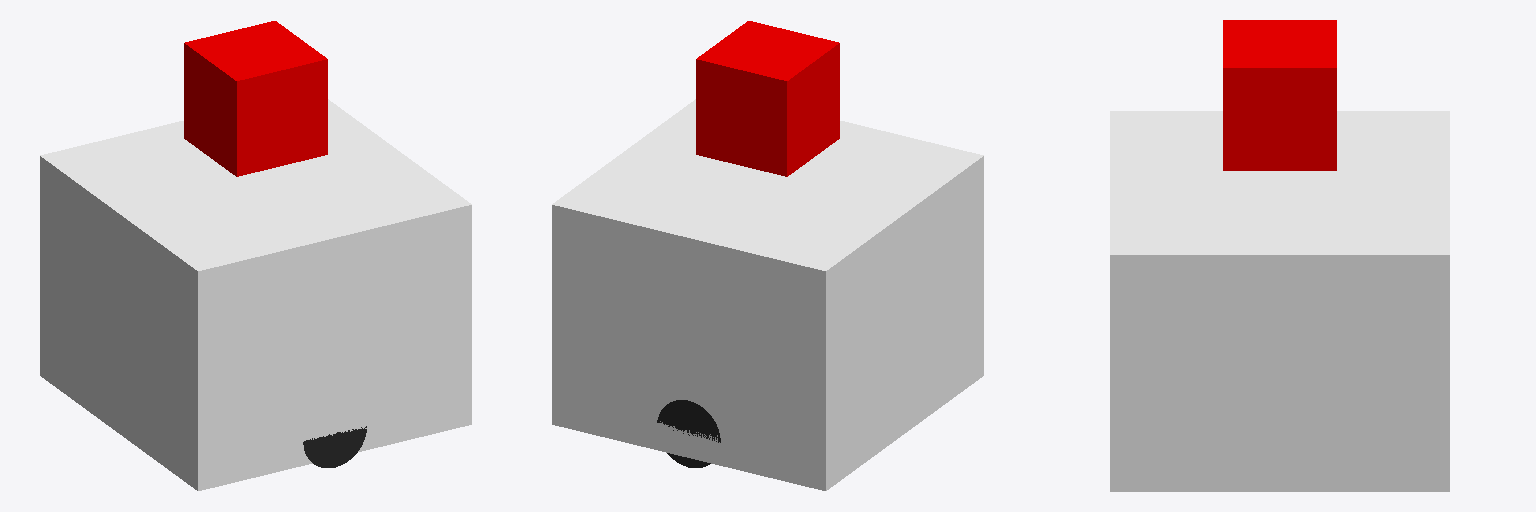
URDF robot description (mobile_robot):
<?xml version="1.0"?>
<robot name="mobile_robot">

  <!--ベースフットプリント-->
  <link name="base_footprint" />

  <!--ベースフットプリントとベースリンクのジョイント-->
  <joint name="base_joint" type="fixed">
    <origin xyz="0 0 0.126" />
    <parent link="base_footprint" />
    <child link="base_link" />
  </joint>

  <!--ベースリンク-->
  <link name="base_link">
    <!--可視化情報-->
    <visual>
      <geometry>
        <box size="0.3 0.3 0.23" />
      </geometry>
      <material name="white">
        <color rgba="1.0 1.0 1.0 1.0" />
      </material>
    </visual>

    <!--衝突属性-->
    <collision>
      <geometry>
        <box size="0.3 0.3 0.23" />
      </geometry>
    </collision>

    <!--慣性属性-->
    <inertial>
      <mass value="1.0" />
      <inertia ixx="0.01191" iyy="0.01191" izz="0.01500" ixy="0" ixz="0" iyz="0" />
    </inertial>
  </link>

  <!--ベースリンクと左車輪のジョイント-->
  <joint name="left_wheel_joint" type="continuous">
    <axis xyz="0 0 1" />
    <parent link="base_link" />
    <child link="left_wheel" />
    <origin rpy="-1.5708 0 0" xyz="0.0 0.125 -.09" />
  </joint>

  <!--左車輪-->
  <link name="left_wheel">
    <!--可視化情報-->
    <visual>
      <geometry>
        <cylinder length="0.05" radius="0.035" />
      </geometry>
      <material name="gray">
        <color rgba="0.2 0.2 0.2 1" />
      </material>
    </visual>

    <!--衝突属性-->
    <collision>
      <geometry>
        <cylinder length="0.05" radius="0.035" />
      </geometry>
    </collision>

    <!--慣性属性-->
    <inertial>
      <mass value="0.1" />
      <inertia ixx="0.00005" iyy="0.00005" izz="0.00006" ixy="0" ixz="0" iyz="0" />
    </inertial>
  </link>

  <!--ベースリンクと右車輪のジョイント-->
  <joint name="right_wheel_joint" type="continuous">
    <axis xyz="0 0 1" />
    <parent link="base_link" />
    <child link="right_wheel" />
    <origin rpy="-1.5708 0 0" xyz="0.0 -0.125 -.09" />
  </joint>

  <!--右車輪-->
  <link name="right_wheel">
    <!--可視化情報-->
    <visual>
      <geometry>
        <cylinder length="0.05" radius="0.035" />
      </geometry>
      <material name="gray">
        <color rgba="0.2 0.2 0.2 1" />
      </material>
    </visual>

    <!--衝突属性-->
    <collision>
      <geometry>
        <cylinder length="0.05" radius="0.035" />
      </geometry>
    </collision>

    <!--慣性属性-->
    <inertial>
      <mass value="0.1" />
      <inertia ixx="0.00005" iyy="0.00005" izz="0.00006" ixy="0" ixz="0" iyz="0" />
    </inertial>
  </link>

  <!--ベースリンクとベーススキャンのジョイント-->
  <joint name="scan_joint" type="fixed">
    <axis xyz="0 1 0" />
    <origin xyz="0 0 0.2" rpy="0 0 0" />
    <parent link="base_link" />
    <child link="base_scan" />
  </joint>

  <!--ベーススキャンー-->
  <link name="base_scan">
    <!--可視化情報-->
    <visual>
      <origin xyz="0 0 0" rpy="0 0 0" />
      <geometry>
        <box size="0.1 0.1 0.1" />
      </geometry>
      <material name="red">
        <color rgba="1 0 0 1" />
      </material>
    </visual>

    <!--衝突属性-->
    <collision>
      <origin xyz="0 0 0" rpy="0 0 0" />
      <geometry>
        <box size="0.1 0.1 0.1" />
      </geometry>
    </collision>

    <!--慣性属性-->
    <inertial>
      <mass value="0.1" />
      <origin xyz="0 0 0" rpy="0 0 0" />
      <inertia ixx="0.00017" iyy="0.00017" izz="0.00017" ixy="0" ixz="0" iyz="0" />
    </inertial>
  </link>

</robot>

--- Facts derived from the render (not from the file) ---
3 views of the same robot in one strip: view 1: azimuth 30°, elevation 25°; view 2: azimuth 150°, elevation 25°; view 3: azimuth 270°, elevation 25° (orthographic).
Model mobile_robot with 5 links and 4 joints (2 continuous, 2 fixed), rooted at base_footprint, posed every joint at zero.
Links seen in each view (by area): view 1: base_link, base_scan, right_wheel; view 2: base_link, base_scan, left_wheel; view 3: base_link, base_scan.
Link boxes in pixels (<box>): base_link: <box>40,99,471,490</box>; base_scan: <box>184,21,327,176</box>; right_wheel: <box>303,426,366,467</box>; base_link: <box>552,99,983,490</box>; base_scan: <box>696,21,839,176</box>; left_wheel: <box>657,400,720,467</box>; base_link: <box>1110,111,1449,491</box>; base_scan: <box>1223,20,1336,170</box>.
Size in the robot's own frame: 0.3 by 0.3 by 0.375 metres.
Geometry: primitives only (box / cylinder / sphere), no mesh files.